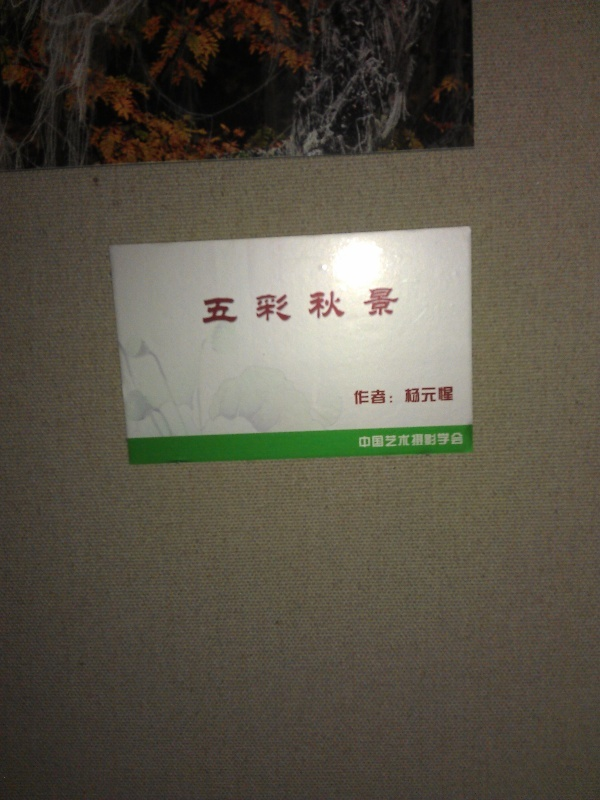text: (385, 284, 401, 328), (209, 284, 224, 328), (225, 284, 240, 328), (241, 284, 256, 328), (257, 284, 272, 328), (273, 284, 288, 328), (289, 284, 304, 328), (305, 284, 320, 328), (321, 284, 336, 328), (337, 284, 352, 328), (353, 284, 368, 328), (369, 284, 384, 328), (200, 284, 208, 328), (353, 384, 368, 406), (369, 384, 384, 406), (385, 384, 400, 406), (401, 384, 416, 406), (417, 384, 432, 406), (433, 384, 448, 406), (369, 431, 384, 450), (385, 431, 400, 450), (401, 431, 416, 450), (417, 431, 432, 450), (433, 431, 448, 450), (449, 431, 464, 450), (358, 431, 368, 450), (449, 384, 456, 406)
